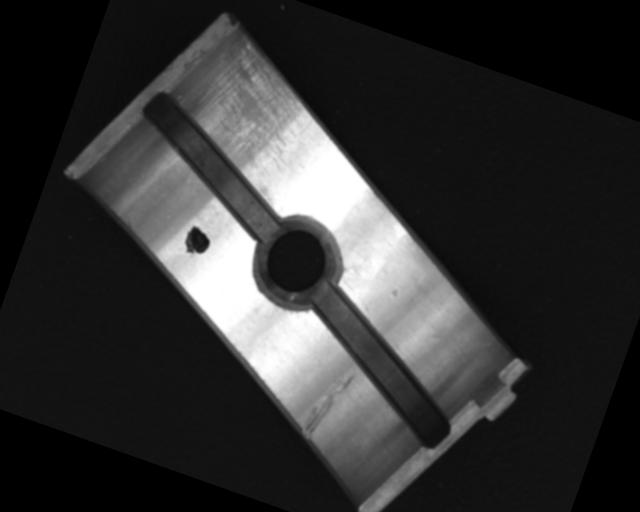blot: (179, 222, 215, 260)
bruise: (387, 287, 400, 302)
gap: (280, 280, 481, 449), (115, 88, 308, 245)
hole: (244, 205, 352, 318)
nick: (298, 363, 355, 448)
scratch: (178, 30, 329, 185)
